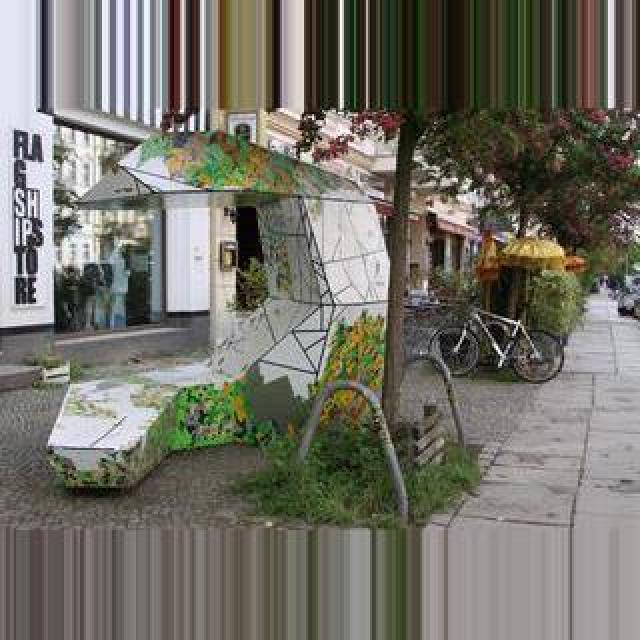Person: (427, 291, 565, 383)
